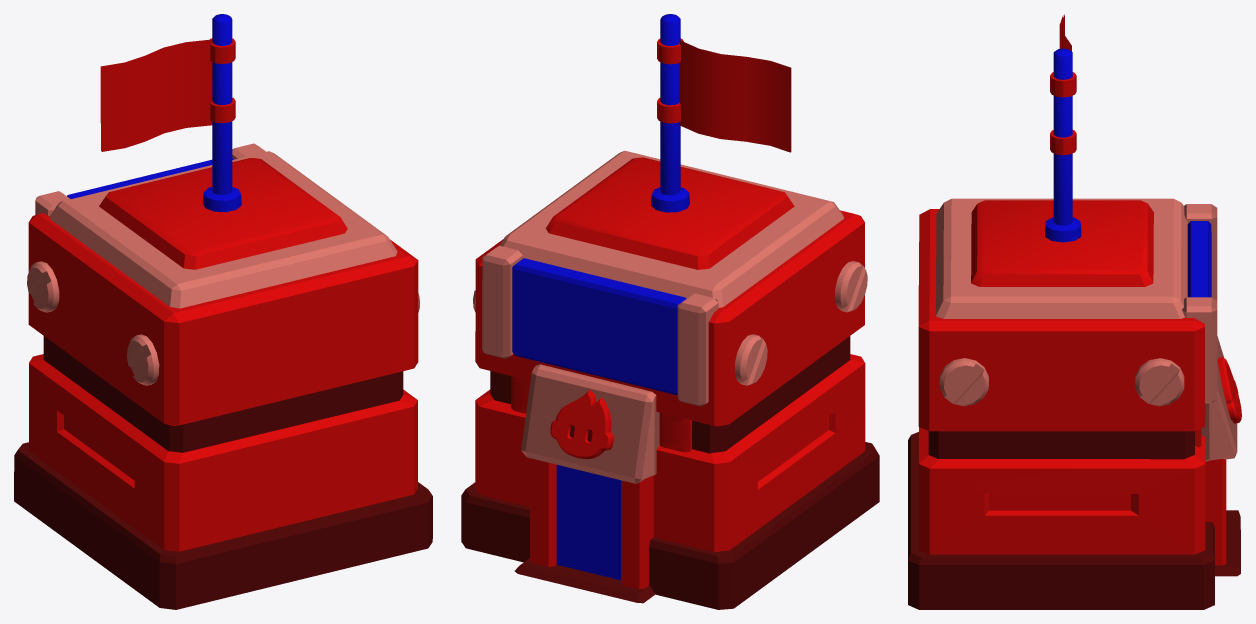
File: EnemyTower.fbx
3 renders of one model, left to right at view 1: azimuth 30°, elevation 25°; view 2: azimuth 150°, elevation 25°; view 3: azimuth 270°, elevation 25°, orthographic. The views are drawn at different scales.
Parts seen in each view (by area): view 1: 3D_EnemyBase_NEW; view 2: 3D_EnemyBase_NEW; view 3: 3D_EnemyBase_NEW.
Boxes of the visible parts, x1=… form: 3D_EnemyBase_NEW: x1=14, y1=14, x2=432, y2=609; 3D_EnemyBase_NEW: x1=461, y1=14, x2=879, y2=609; 3D_EnemyBase_NEW: x1=908, y1=14, x2=1241, y2=609.
Size of the model in its own units: 152 by 269 by 165.
